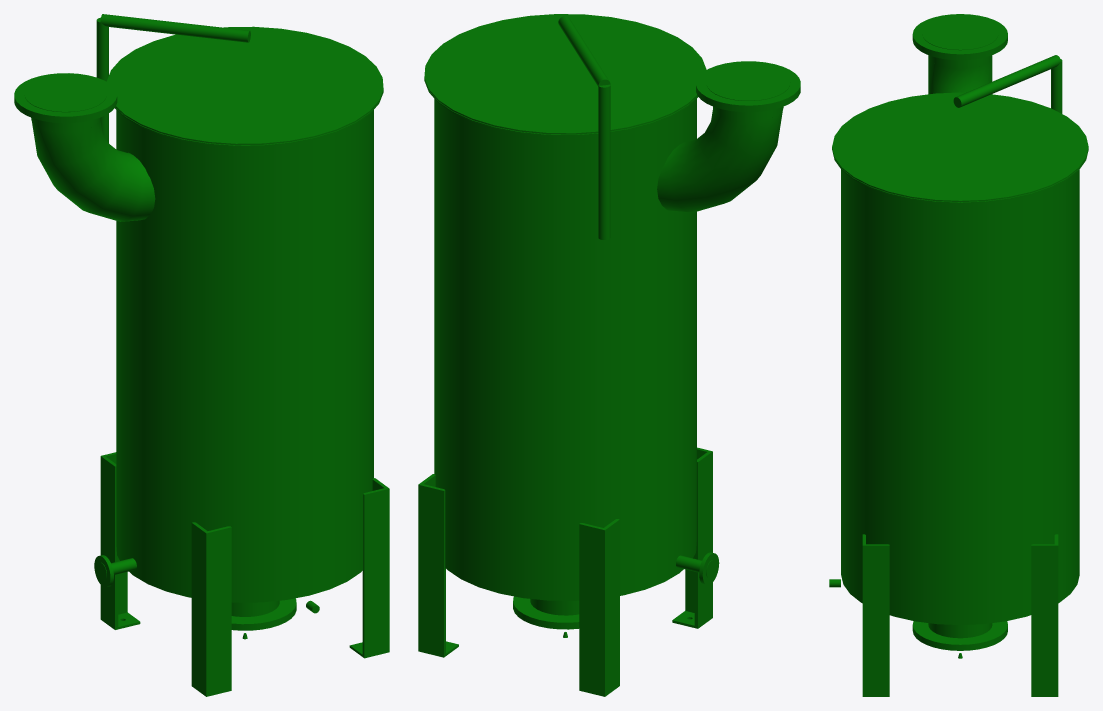
The model's file is Image-1711348127786-2280757697024_27-CB60.fbx.
The picture shows the model from 3 angles, left to right: view 1: azimuth 30°, elevation 25°; view 2: azimuth 150°, elevation 25°; view 3: azimuth 270°, elevation 25°; orthographic projection. The views are drawn at different scales.
Parts seen in each view (by area): view 1: CYLINDER 3 of SUBEQUIPMENT 1 of EQUIPMENT /27-CB60, CYLINDER 1 of SUBEQUIPMENT 1 of EQUIPMENT /27-CB60, CTORUS 1 of SUBEQUIPMENT 1 of EQUIPMENT /27-CB60, BOX 5 of SUBEQUIPMENT 1 of EQUIPMENT /27-CB60, /27-CB60/N1117, BOX 3 of SUBEQUIPMENT 1 of EQUIPMENT /27-CB60, BOX 7 of SUBEQUIPMENT 1 of EQUIPMENT /27-CB60, CYLINDER 5 of SUBEQUIPMENT 1 of EQUIPMENT /27-CB60, /27-CB60/N1105, CYLINDER 6 of SUBEQUIPMENT 1 of EQUIPMENT /27-CB60, /27-CB60/N1116, CYLINDER 2 of SUBEQUIPMENT 1 of EQUIPMENT /27-CB60; view 2: CYLINDER 3 of SUBEQUIPMENT 1 of EQUIPMENT /27-CB60, CYLINDER 1 of SUBEQUIPMENT 1 of EQUIPMENT /27-CB60, CTORUS 1 of SUBEQUIPMENT 1 of EQUIPMENT /27-CB60, BOX 7 of SUBEQUIPMENT 1 of EQUIPMENT /27-CB60, /27-CB60/N1117, BOX 1 of SUBEQUIPMENT 1 of EQUIPMENT /27-CB60, BOX 5 of SUBEQUIPMENT 1 of EQUIPMENT /27-CB60, CYLINDER 6 of SUBEQUIPMENT 1 of EQUIPMENT /27-CB60, /27-CB60/N1105, CYLINDER 5 of SUBEQUIPMENT 1 of EQUIPMENT /27-CB60, /27-CB60/N1116, CYLINDER 2 of SUBEQUIPMENT 1 of EQUIPMENT /27-CB60; view 3: CYLINDER 3 of SUBEQUIPMENT 1 of EQUIPMENT /27-CB60, CYLINDER 1 of SUBEQUIPMENT 1 of EQUIPMENT /27-CB60, BOX 1 of SUBEQUIPMENT 1 of EQUIPMENT /27-CB60, BOX 3 of SUBEQUIPMENT 1 of EQUIPMENT /27-CB60, /27-CB60/N1117, /27-CB60/N1105, CTORUS 1 of SUBEQUIPMENT 1 of EQUIPMENT /27-CB60, CYLINDER 5 of SUBEQUIPMENT 1 of EQUIPMENT /27-CB60, CYLINDER 2 of SUBEQUIPMENT 1 of EQUIPMENT /27-CB60, CYLINDER 6 of SUBEQUIPMENT 1 of EQUIPMENT /27-CB60.
Part boxes in pixels (x1=…): CYLINDER 3 of SUBEQUIPMENT 1 of EQUIPMENT /27-CB60: x1=116, y1=110, x2=373, y2=602; CYLINDER 1 of SUBEQUIPMENT 1 of EQUIPMENT /27-CB60: x1=106, y1=26, x2=383, y2=145; CTORUS 1 of SUBEQUIPMENT 1 of EQUIPMENT /27-CB60: x1=32, y1=120, x2=155, y2=221; BOX 5 of SUBEQUIPMENT 1 of EQUIPMENT /27-CB60: x1=191, y1=522, x2=231, y2=694; /27-CB60/N1117: x1=14, y1=73, x2=117, y2=132; BOX 3 of SUBEQUIPMENT 1 of EQUIPMENT /27-CB60: x1=362, y1=478, x2=389, y2=655; BOX 7 of SUBEQUIPMENT 1 of EQUIPMENT /27-CB60: x1=100, y1=452, x2=127, y2=627; CYLINDER 5 of SUBEQUIPMENT 1 of EQUIPMENT /27-CB60: x1=100, y1=14, x2=250, y2=42; /27-CB60/N1105: x1=231, y1=598, x2=296, y2=630; CYLINDER 6 of SUBEQUIPMENT 1 of EQUIPMENT /27-CB60: x1=96, y1=17, x2=108, y2=143; /27-CB60/N1116: x1=94, y1=555, x2=136, y2=587; CYLINDER 2 of SUBEQUIPMENT 1 of EQUIPMENT /27-CB60: x1=115, y1=91, x2=383, y2=146; CYLINDER 3 of SUBEQUIPMENT 1 of EQUIPMENT /27-CB60: x1=434, y1=99, x2=696, y2=600; CYLINDER 1 of SUBEQUIPMENT 1 of EQUIPMENT /27-CB60: x1=424, y1=14, x2=706, y2=134; CTORUS 1 of SUBEQUIPMENT 1 of EQUIPMENT /27-CB60: x1=657, y1=108, x2=782, y2=212; BOX 7 of SUBEQUIPMENT 1 of EQUIPMENT /27-CB60: x1=579, y1=519, x2=619, y2=694; /27-CB60/N1117: x1=696, y1=61, x2=800, y2=121; BOX 1 of SUBEQUIPMENT 1 of EQUIPMENT /27-CB60: x1=418, y1=474, x2=445, y2=655; BOX 5 of SUBEQUIPMENT 1 of EQUIPMENT /27-CB60: x1=685, y1=447, x2=712, y2=626; CYLINDER 6 of SUBEQUIPMENT 1 of EQUIPMENT /27-CB60: x1=598, y1=84, x2=610, y2=239; /27-CB60/N1105: x1=513, y1=596, x2=579, y2=629; CYLINDER 5 of SUBEQUIPMENT 1 of EQUIPMENT /27-CB60: x1=558, y1=16, x2=610, y2=86; /27-CB60/N1116: x1=676, y1=552, x2=719, y2=585; CYLINDER 2 of SUBEQUIPMENT 1 of EQUIPMENT /27-CB60: x1=424, y1=79, x2=697, y2=136; CYLINDER 3 of SUBEQUIPMENT 1 of EQUIPMENT /27-CB60: x1=841, y1=169, x2=1079, y2=624; CYLINDER 1 of SUBEQUIPMENT 1 of EQUIPMENT /27-CB60: x1=832, y1=92, x2=1088, y2=202; BOX 1 of SUBEQUIPMENT 1 of EQUIPMENT /27-CB60: x1=1031, y1=534, x2=1058, y2=694; BOX 3 of SUBEQUIPMENT 1 of EQUIPMENT /27-CB60: x1=862, y1=534, x2=889, y2=694; /27-CB60/N1117: x1=912, y1=14, x2=1007, y2=68; /27-CB60/N1105: x1=912, y1=621, x2=1007, y2=650; CTORUS 1 of SUBEQUIPMENT 1 of EQUIPMENT /27-CB60: x1=928, y1=56, x2=992, y2=94; CYLINDER 5 of SUBEQUIPMENT 1 of EQUIPMENT /27-CB60: x1=953, y1=55, x2=1061, y2=107; CYLINDER 2 of SUBEQUIPMENT 1 of EQUIPMENT /27-CB60: x1=832, y1=148, x2=1088, y2=203; CYLINDER 6 of SUBEQUIPMENT 1 of EQUIPMENT /27-CB60: x1=1051, y1=59, x2=1062, y2=113.
Bounding box in the file's own units: 1.56 × 1.1 × 2.64.
